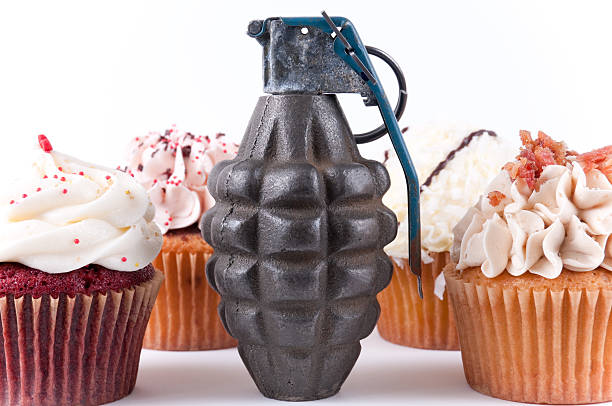e1: (199, 14, 425, 401)
